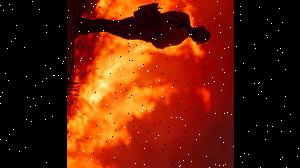fire: (66, 44, 220, 168)
